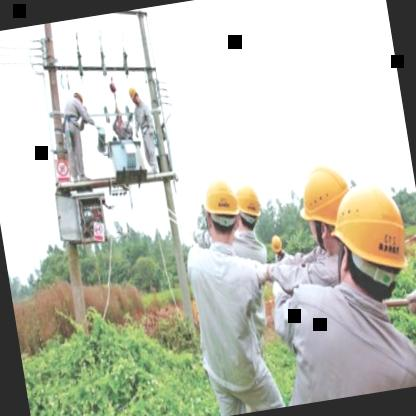helmet: (313, 167, 413, 296), (287, 154, 361, 261), (197, 165, 249, 246), (226, 170, 268, 238), (270, 230, 286, 258), (71, 85, 86, 111), (125, 84, 141, 107)
